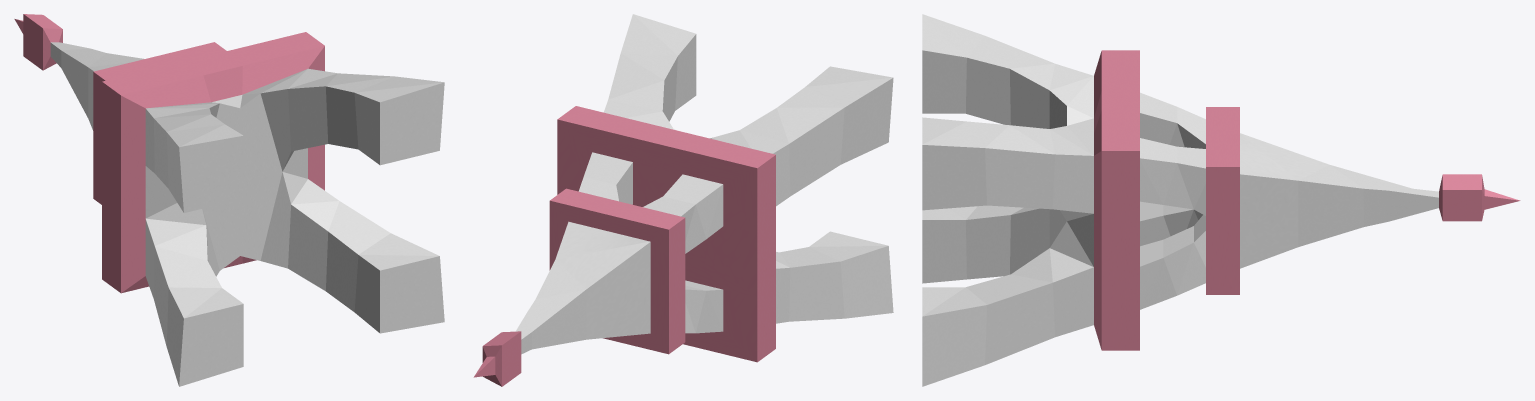
File: pink_symbol_pinktower.FBX
3 views of the same model, side by side, from view 1: azimuth 30°, elevation 25°; view 2: azimuth 150°, elevation 25°; view 3: azimuth 270°, elevation 25° (orthographic). The views are drawn at different scales.
Parts seen in each view (by area): view 1: eiffel_winter.001; view 2: eiffel_winter.001; view 3: eiffel_winter.001.
Part boxes in pixels (x1=…): eiffel_winter.001: x1=14, y1=14, x2=444, y2=386; eiffel_winter.001: x1=473, y1=14, x2=893, y2=386; eiffel_winter.001: x1=922, y1=14, x2=1520, y2=386.
Bounding box in the file's own units: 250 × 216 × 483.
